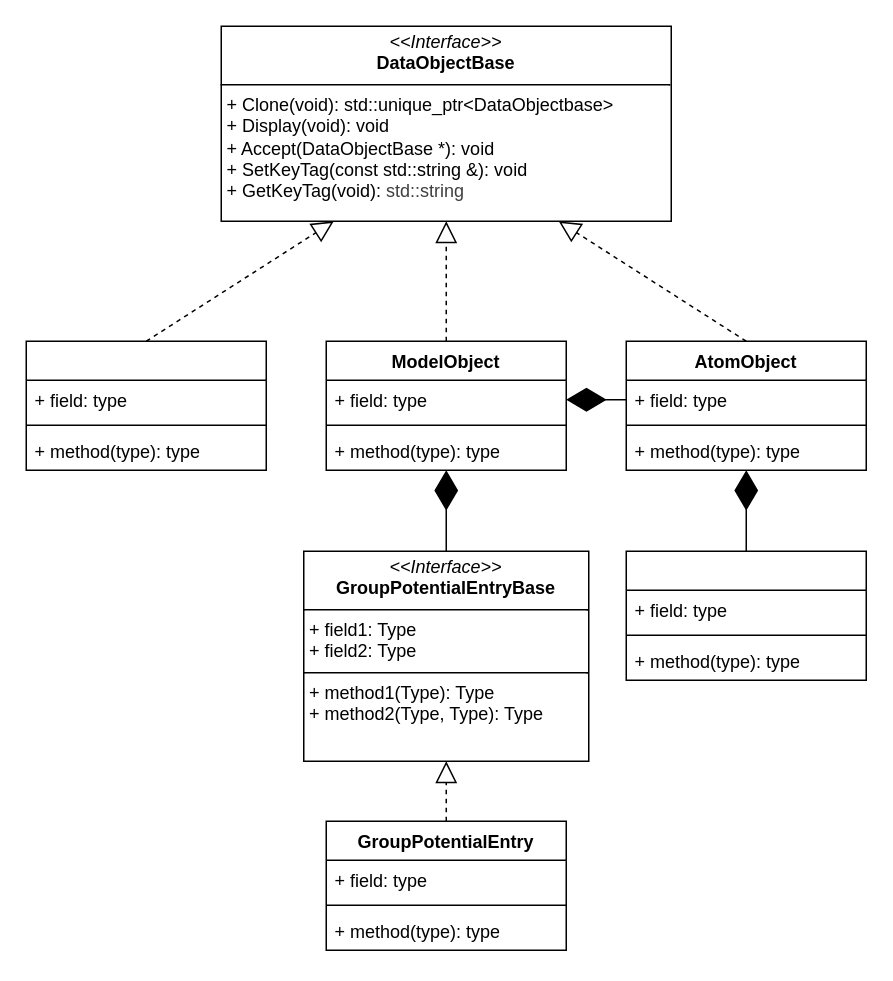
Image size: 893x981. Some labels were removed from this diagram. Each missing label, with the box of its shape:
AtomicPotentialEntry: (625, 550, 866, 680)
MapObject: (25, 340, 266, 470)
